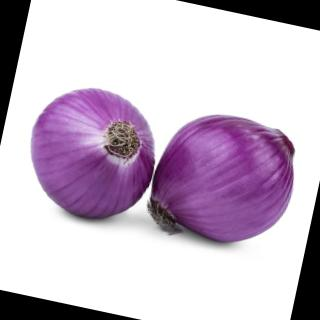Bawang Merah: (142, 100, 308, 259), (12, 72, 170, 233)
